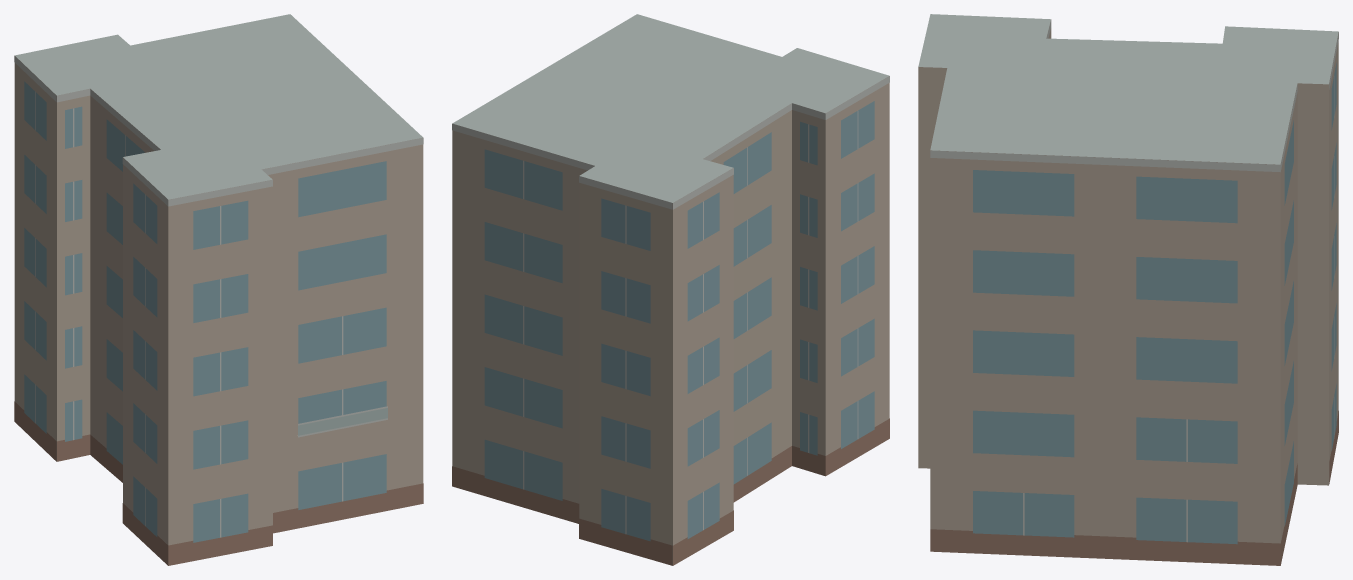
Rendered from survey-upis-32983328.glb.
3 views of the same model, side by side, from view 1: azimuth 30°, elevation 25°; view 2: azimuth 150°, elevation 25°; view 3: azimuth 270°, elevation 25° (orthographic). The views are drawn at different scales.
Parts seen in each view (by area): view 1: survey-upis-32983328.tmp; view 2: survey-upis-32983328.tmp; view 3: survey-upis-32983328.tmp.
Boxes of the visible parts, x1=… form: survey-upis-32983328.tmp: x1=14, y1=14, x2=423, y2=565; survey-upis-32983328.tmp: x1=452, y1=14, x2=889, y2=565; survey-upis-32983328.tmp: x1=918, y1=14, x2=1338, y2=565.
Bounding box in the file's own units: 10.52 × 13.05 × 12.41.
